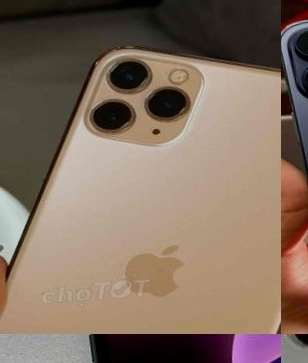physical_damage: (140, 14, 308, 363)
